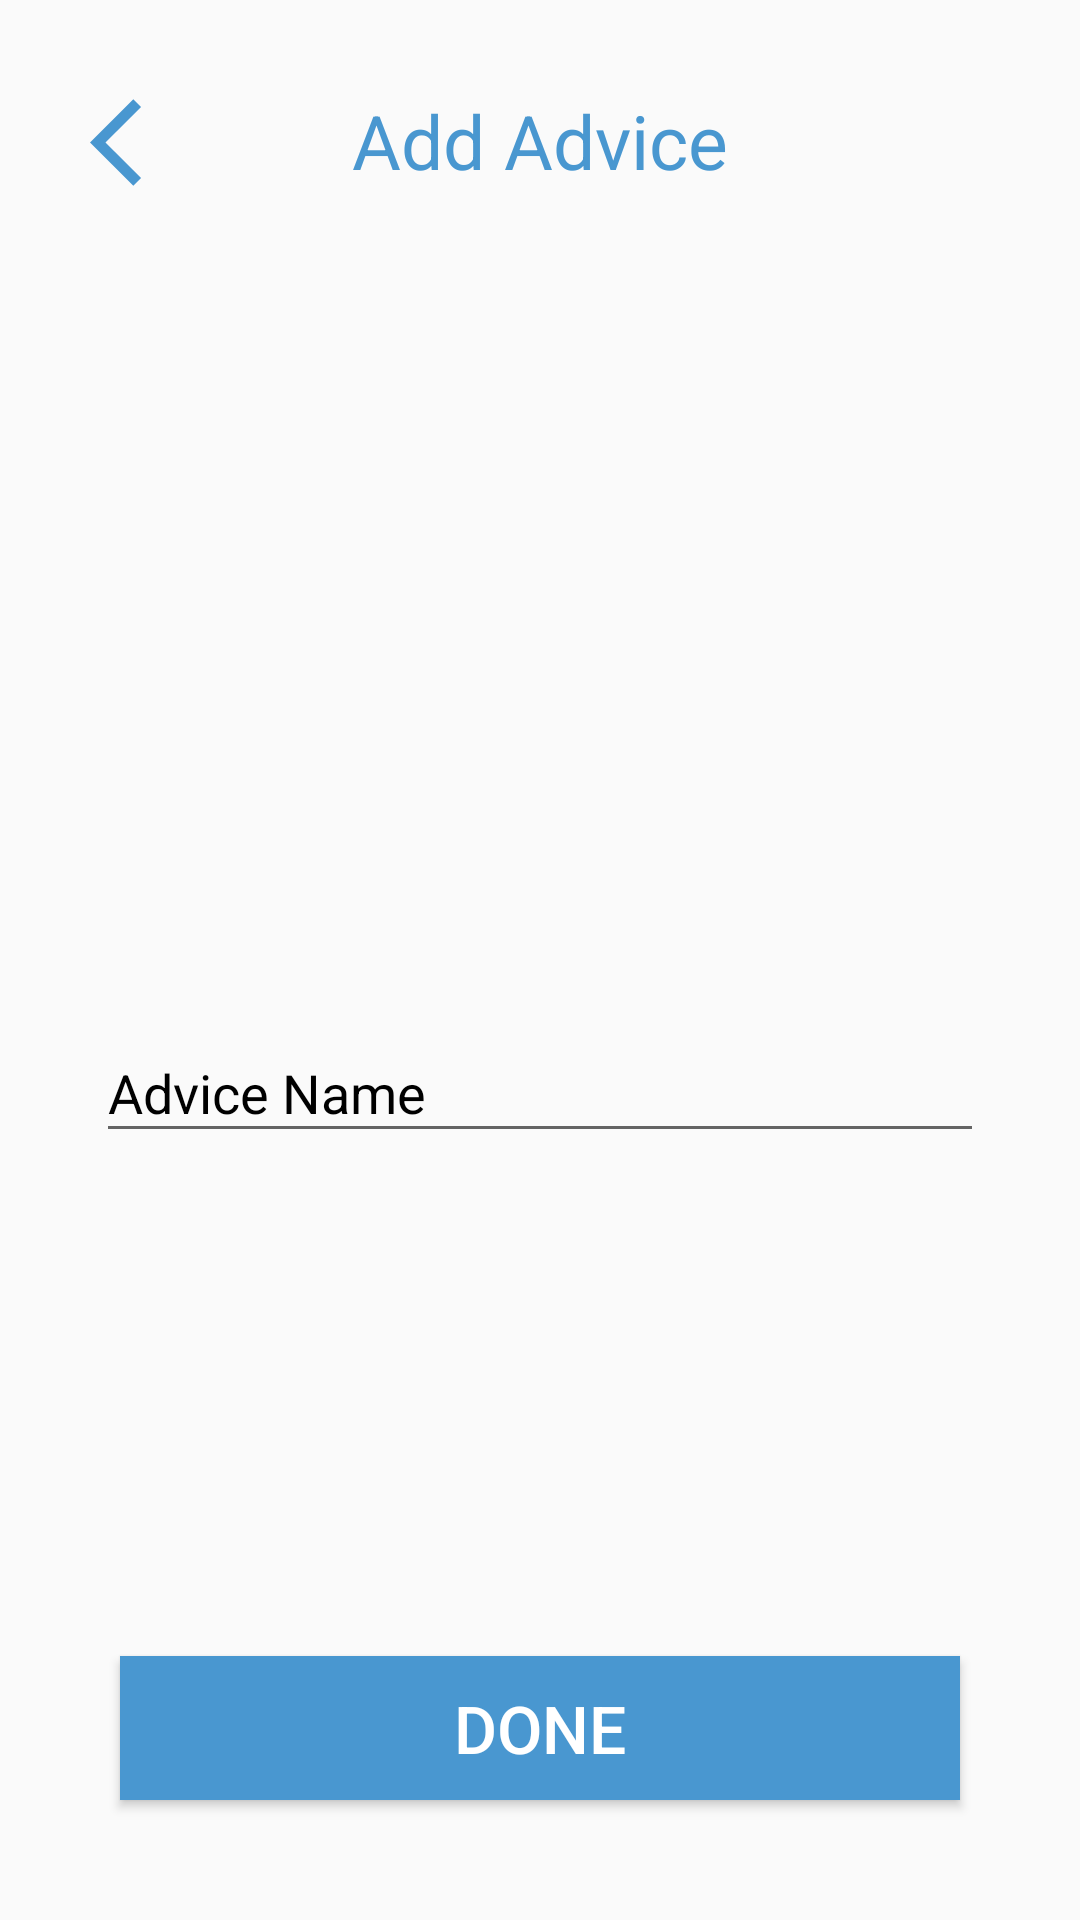

Icons on this 1080 × 1920 Android screen, each with the point to tap as [x,y]:
arrow back: [115,142]
